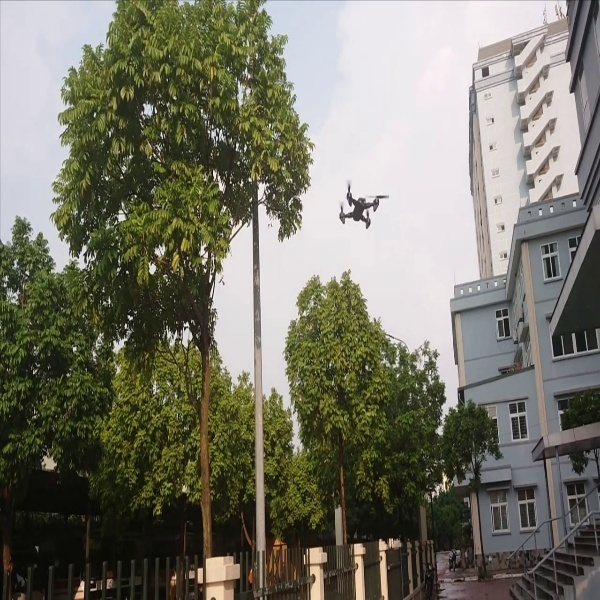drone: (334, 179, 391, 233)
